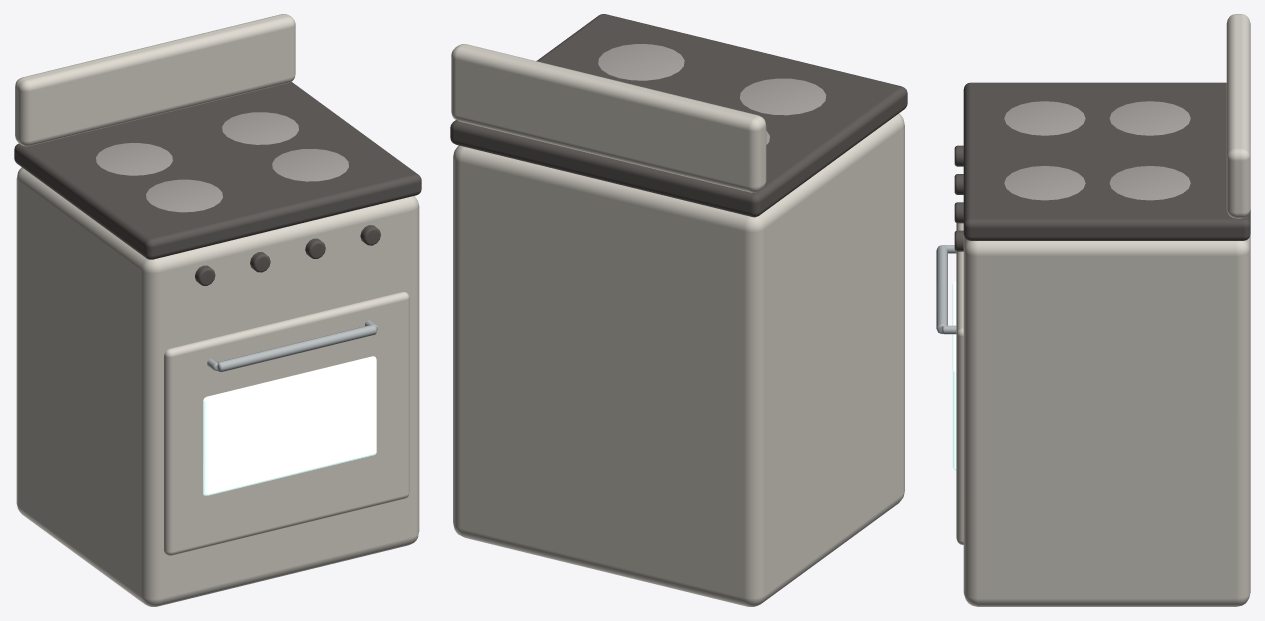
The model's file is kitchen_stove.glb.
3 views of the same model, side by side, from view 1: azimuth 30°, elevation 25°; view 2: azimuth 150°, elevation 25°; view 3: azimuth 270°, elevation 25° (orthographic). The views are drawn at different scales.
Parts seen in each view (by area): view 1: kitchen_stove_mesh; view 2: kitchen_stove_mesh; view 3: kitchen_stove_mesh.
Boxes of the visible parts, x1,y1,x2,y2 form: kitchen_stove_mesh: (14,14,421,606); kitchen_stove_mesh: (450,14,907,606); kitchen_stove_mesh: (936,14,1250,606).
Bounding box in the file's own units: 0.7 × 1.06 × 0.657.
